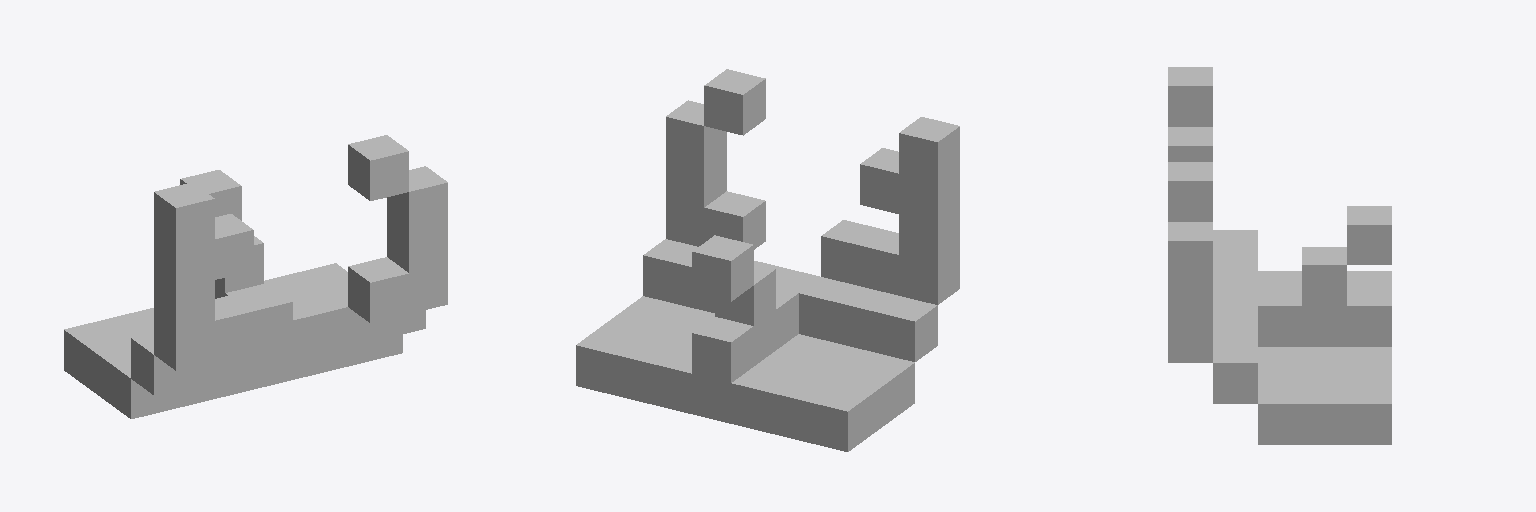
File: environ-rail2-broken.obj
The picture shows the model from 3 angles: view 1: azimuth 30°, elevation 25°; view 2: azimuth 150°, elevation 25°; view 3: azimuth 270°, elevation 25°; orthographic projection.
Visible parts, largest first — view 1: rail2-broken; view 2: rail2-broken; view 3: rail2-broken.
Part boxes in pixels (bbox=[...]): rail2-broken: bbox=[64, 135, 447, 418]; rail2-broken: bbox=[576, 69, 959, 451]; rail2-broken: bbox=[1168, 67, 1391, 444].
Size of the model in its own units: 0.7 by 0.6 by 0.5.